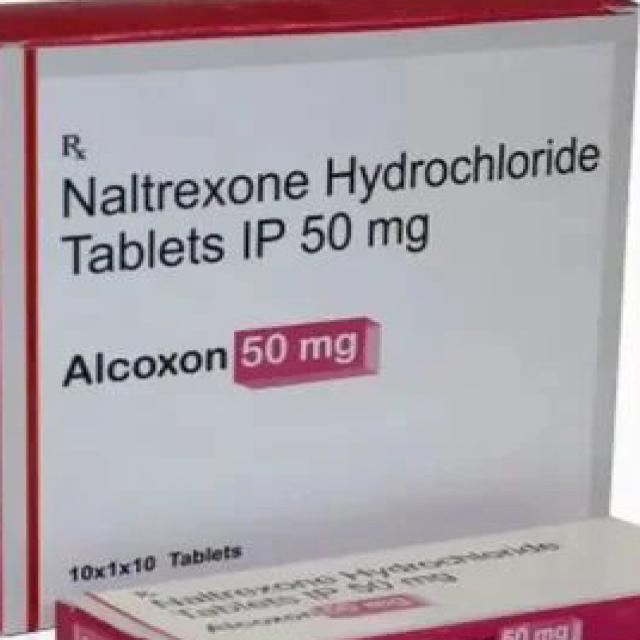drug-name: (61, 326, 232, 397)
